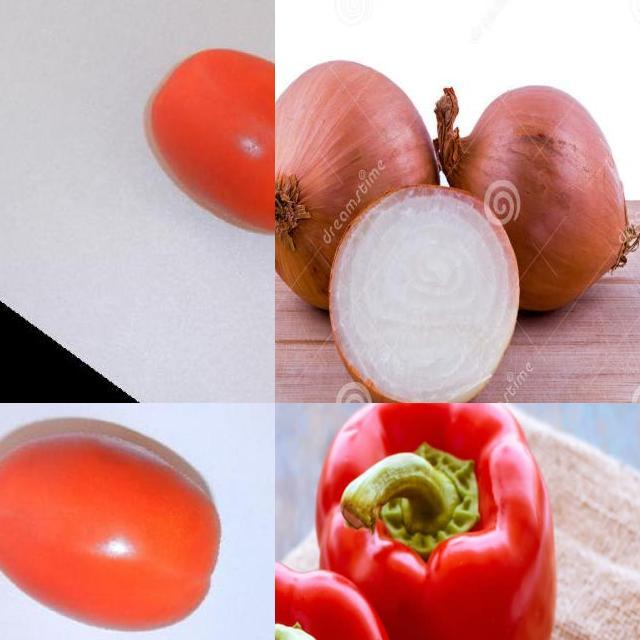bell_pepper: (314, 404, 556, 640)
onion: (443, 82, 631, 321), (331, 180, 523, 404), (276, 58, 440, 319)
tomato: (1, 411, 230, 640), (113, 16, 276, 266)
